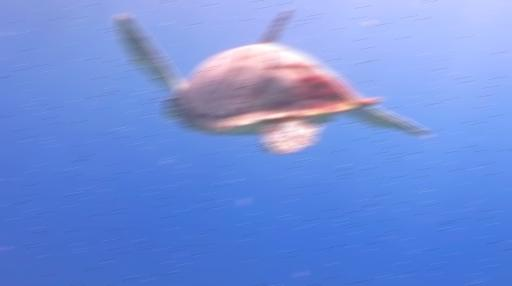Fish: (117, 10, 428, 153)
